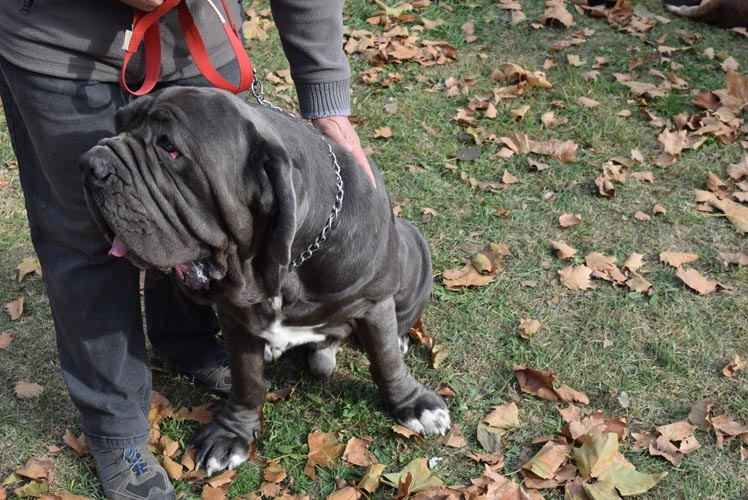neapolitan_mastiff: (76, 85, 451, 478)
person: (0, 0, 377, 500)
